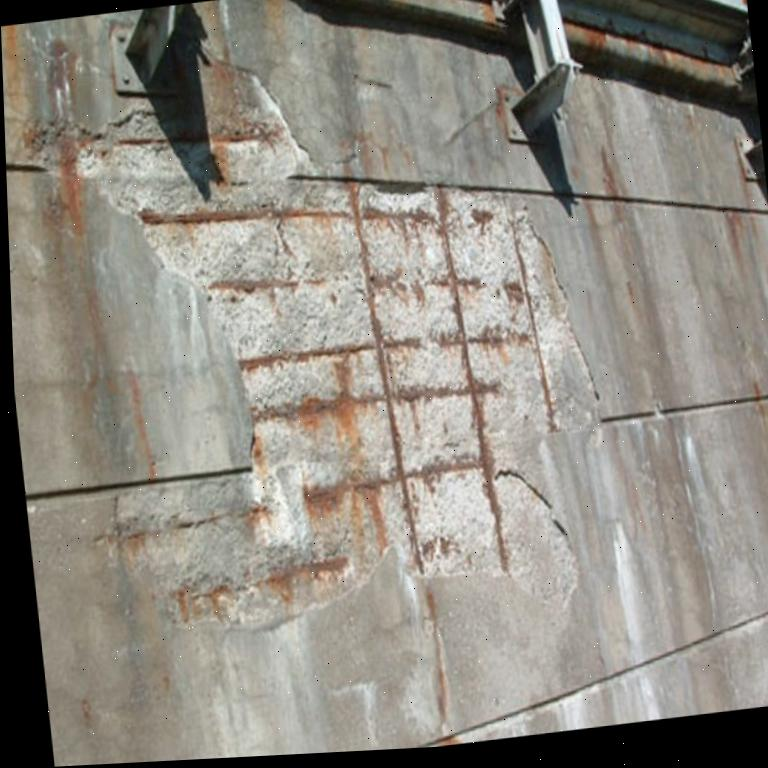spalling: (81, 60, 590, 626)
